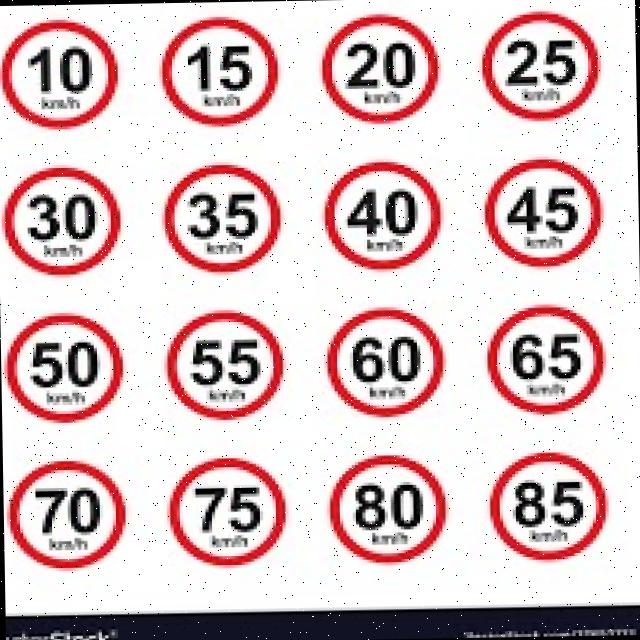speed_limit_20: (308, 1, 448, 130)
speed_limit_30: (0, 157, 130, 278)
speed_limit_50: (0, 310, 140, 432)
speed_limit_60: (324, 302, 459, 430)
speed_limit_70: (2, 451, 126, 572)
speed_limit_80: (318, 449, 457, 570)
